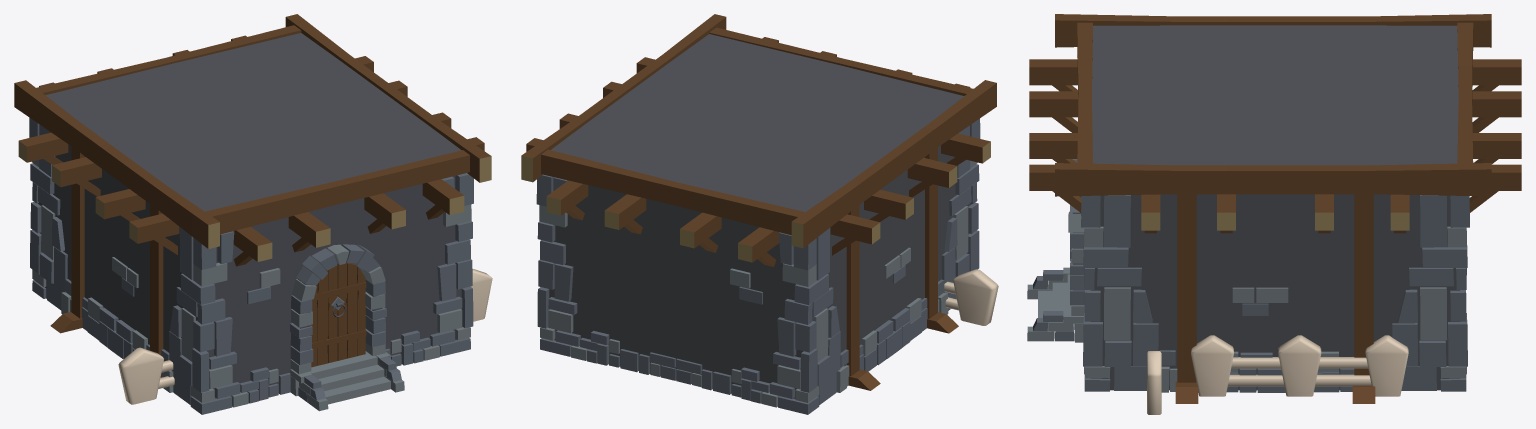
File: london_bld_hut.glb
3 views of the same model, side by side, from view 1: azimuth 30°, elevation 25°; view 2: azimuth 150°, elevation 25°; view 3: azimuth 270°, elevation 25° (orthographic). The views are drawn at different scales.
Parts seen in each view (by area): view 1: House_4, fence_straight_long (×2); view 2: House_4, fence_straight_long; view 3: House_4, fence_straight_long (×2).
Boxes of the visible parts, x1,y1,x2,y2 form: House_4: [14, 14, 491, 414]; fence_straight_long (×2): [118, 268, 492, 404]; House_4: [521, 14, 996, 414]; fence_straight_long: [944, 269, 998, 325]; House_4: [1027, 14, 1521, 403]; fence_straight_long (×2): [1147, 335, 1408, 414].
Size of the model in its own units: 9.89 by 5.15 by 10.19.
